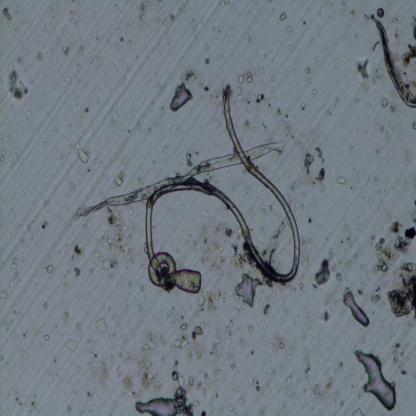Air bubble: (352, 348, 396, 411), (343, 290, 370, 328), (235, 274, 261, 306), (134, 397, 176, 414), (170, 83, 193, 112)
Background material: (93, 206, 136, 277), (120, 331, 162, 397), (195, 219, 245, 273), (374, 218, 416, 274), (109, 270, 136, 342), (387, 260, 416, 323), (310, 360, 346, 398), (172, 366, 199, 416), (311, 250, 342, 291), (105, 16, 139, 52), (204, 320, 232, 360), (6, 308, 31, 352), (235, 74, 264, 108), (265, 218, 288, 260), (344, 234, 366, 275), (86, 352, 111, 388), (9, 382, 37, 414), (7, 218, 37, 247), (7, 68, 31, 100), (274, 107, 296, 141), (202, 361, 219, 403), (196, 291, 227, 314), (379, 115, 396, 146), (283, 175, 305, 195), (281, 24, 297, 51), (355, 56, 372, 80), (338, 210, 354, 235), (379, 93, 398, 114), (304, 340, 313, 384), (274, 332, 290, 356), (358, 184, 376, 205), (402, 43, 416, 69), (179, 63, 198, 82), (301, 153, 316, 176), (340, 0, 355, 23), (224, 353, 240, 374), (139, 1, 153, 25), (75, 141, 89, 165), (172, 334, 190, 352), (305, 68, 316, 97), (73, 34, 86, 58), (301, 238, 310, 271), (68, 10, 83, 29), (131, 110, 142, 135), (247, 372, 260, 392), (65, 336, 78, 355), (371, 285, 382, 307), (121, 62, 138, 76), (248, 119, 261, 137), (114, 168, 126, 187), (95, 315, 107, 334), (314, 166, 327, 183), (59, 40, 72, 57), (184, 146, 194, 168), (192, 322, 204, 340), (72, 244, 84, 262), (314, 146, 326, 164), (245, 27, 256, 45), (158, 14, 176, 25), (79, 99, 91, 115), (262, 300, 272, 318), (1, 6, 12, 21), (60, 310, 69, 328), (321, 309, 331, 325), (374, 65, 384, 81), (404, 76, 416, 88), (40, 218, 50, 232), (411, 15, 416, 43), (402, 150, 412, 164), (62, 24, 70, 40), (12, 152, 21, 166), (334, 174, 346, 184), (74, 265, 82, 280), (0, 288, 10, 300), (34, 49, 44, 61), (399, 366, 409, 378), (376, 8, 386, 20), (372, 39, 381, 52), (45, 262, 54, 275), (0, 145, 6, 164), (11, 255, 18, 269), (219, 0, 230, 8), (179, 322, 188, 331), (279, 12, 287, 22), (393, 342, 403, 350), (238, 340, 247, 348), (282, 306, 288, 318), (324, 109, 332, 118), (65, 75, 72, 85), (307, 211, 312, 225), (334, 95, 340, 106), (227, 404, 235, 412), (43, 300, 50, 309), (203, 84, 210, 93), (204, 57, 212, 64), (44, 334, 50, 342), (412, 119, 416, 130)
Cellulose filter fibre: (76, 134, 284, 219), (367, 15, 416, 108)
Microfibre: (145, 83, 302, 292)
